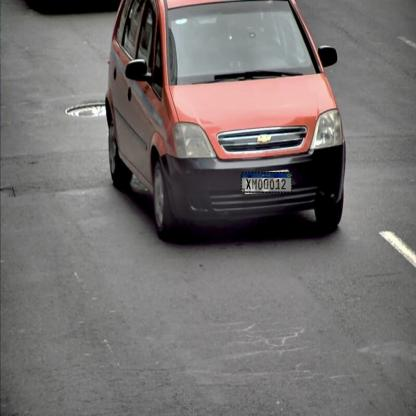PlacaM: (241, 172, 292, 193)
